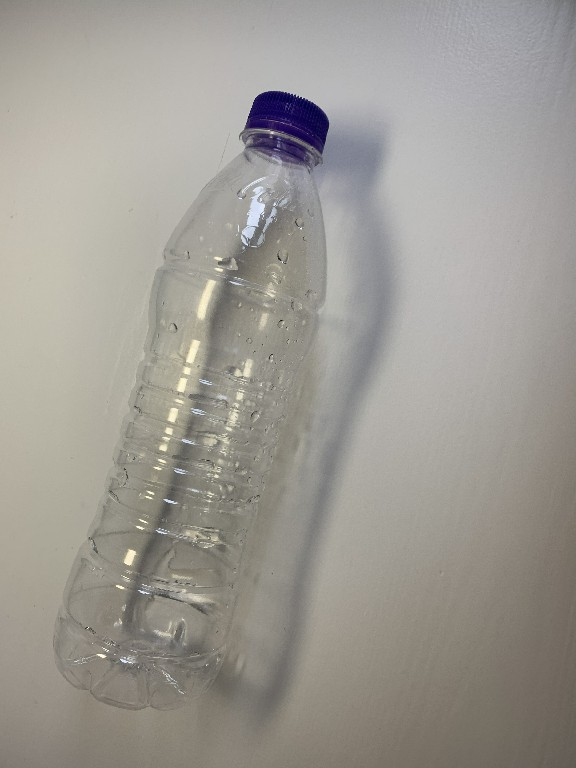bottle: (42, 83, 342, 718)
